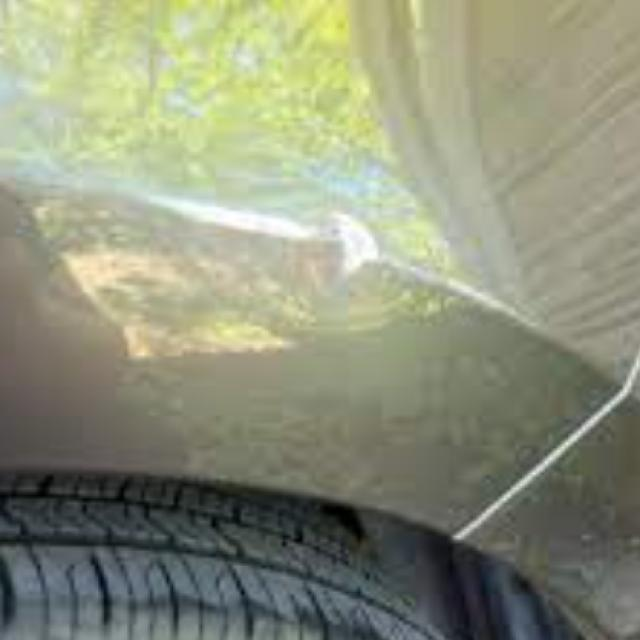dents: (292, 208, 381, 298)
